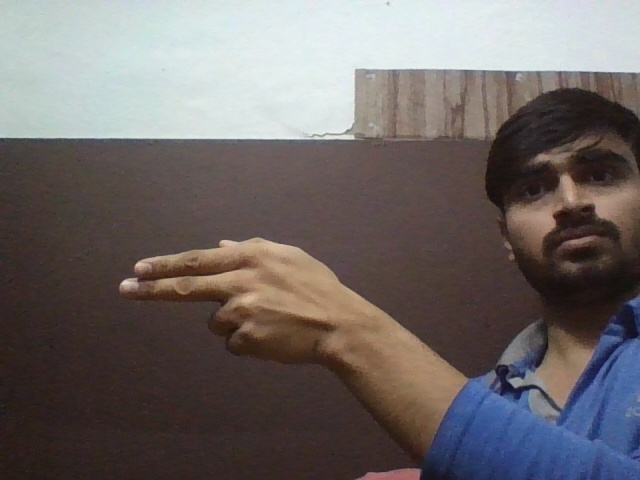H: (109, 231, 361, 391)
